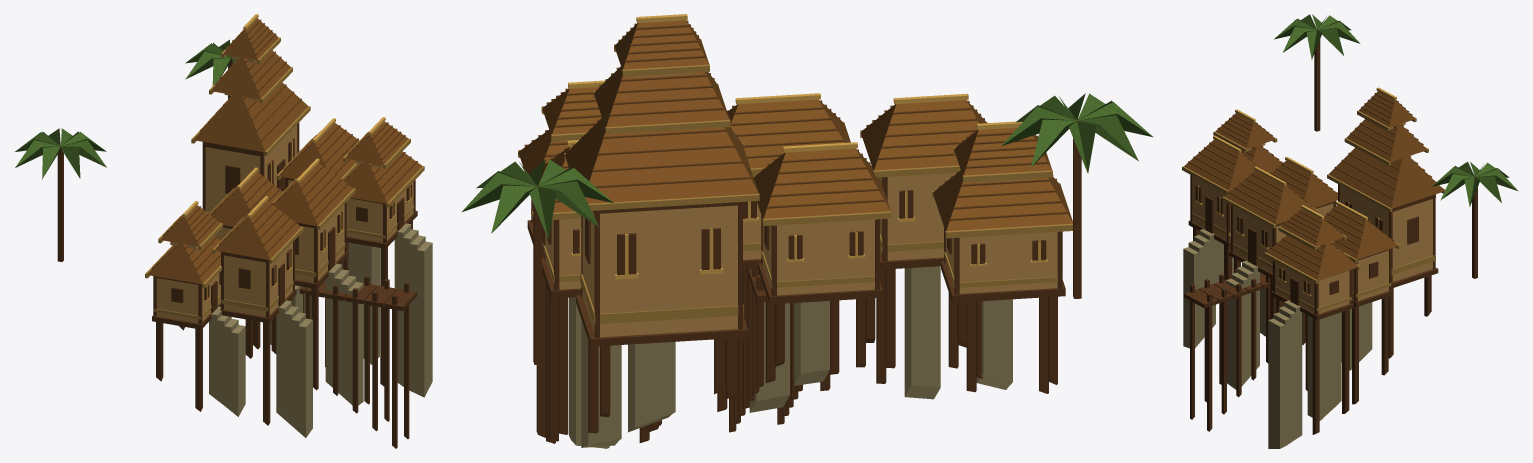
Rendered from brunei.obj.
The picture shows the model from 3 angles, left to right: view 1: azimuth 30°, elevation 25°; view 2: azimuth 150°, elevation 25°; view 3: azimuth 270°, elevation 25°; orthographic projection. The views are drawn at different scales.
Visible parts, largest first — view 1: brunei; view 2: brunei; view 3: brunei.
Part boxes in pixels (x1,y1,x2,y2): brunei: [15, 14, 432, 448]; brunei: [461, 14, 1153, 448]; brunei: [1182, 14, 1518, 448].
Bounding box in the file's own units: 15.44 × 12.99 × 12.6.
